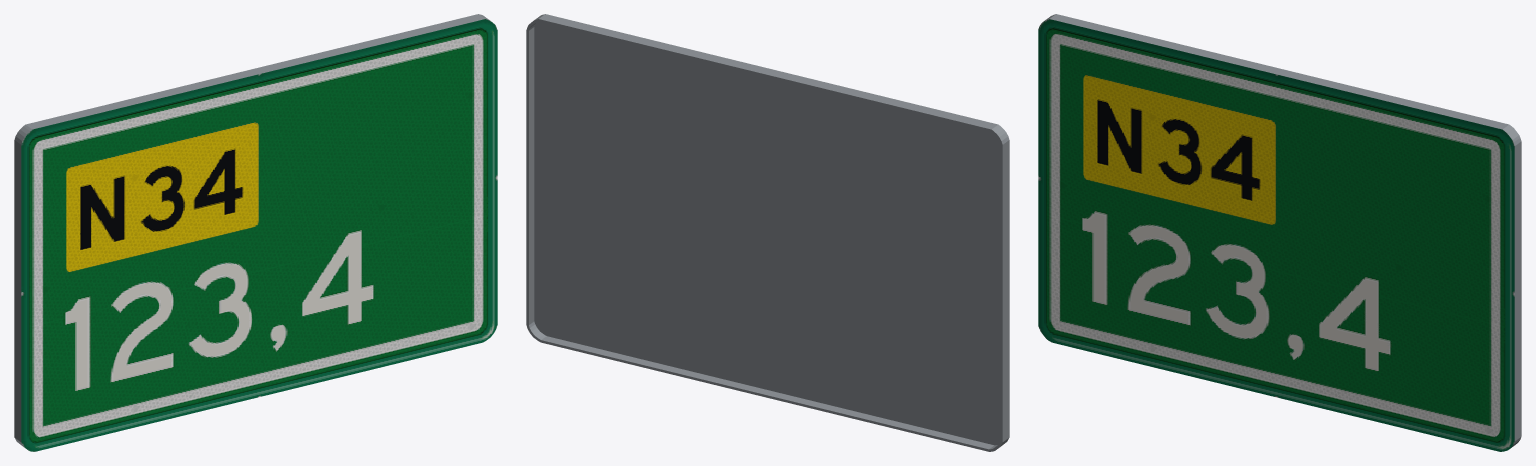
3 views of the same model, side by side, from view 1: azimuth 30°, elevation 25°; view 2: azimuth 150°, elevation 25°; view 3: azimuth 330°, elevation 25° (orthographic).
Parts seen in each view (by area): view 1: cat_d98e6c2a32518580; view 2: cat_d98e6c2a32518580; view 3: cat_d98e6c2a32518580.
Boxes of the visible parts, box(x1,y1,x2,y2) form: cat_d98e6c2a32518580: box(14, 14, 497, 451); cat_d98e6c2a32518580: box(526, 14, 1009, 451); cat_d98e6c2a32518580: box(1038, 14, 1521, 451).
Bounding box in the file's own units: 0.6 × 0.015 × 0.3889.
2 materials, 1 textured.
